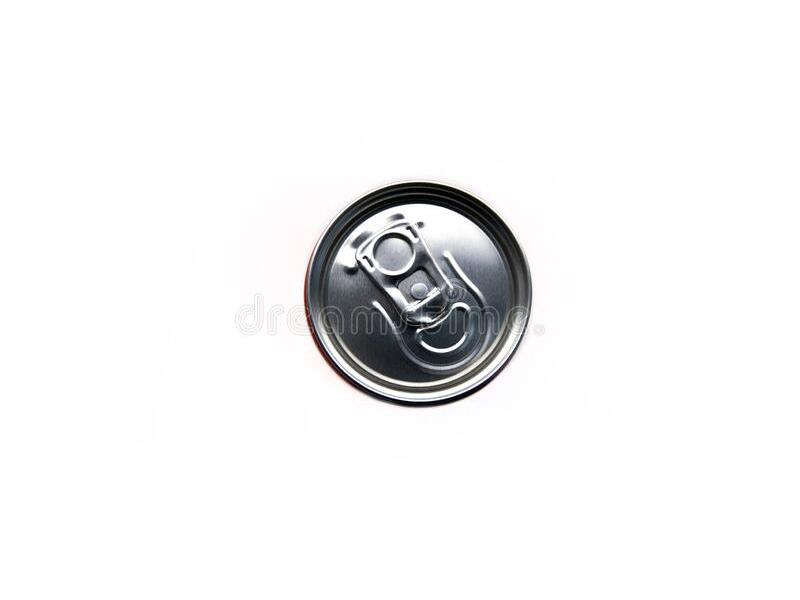can: (300, 174, 542, 412)
